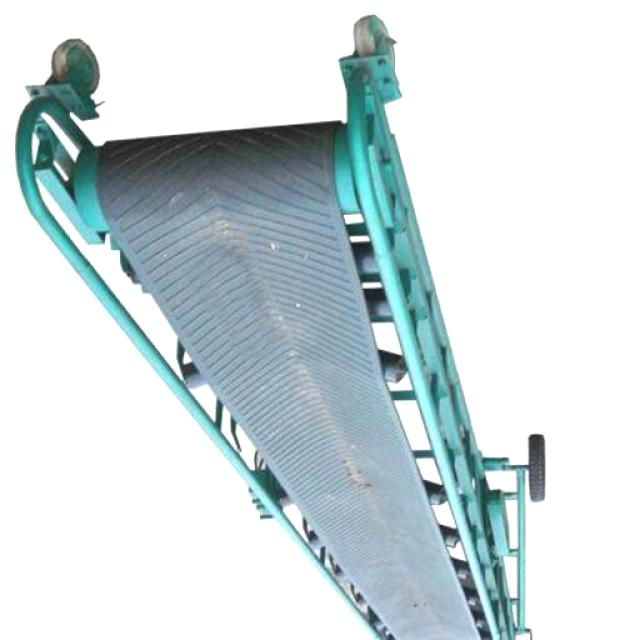conveyor: (98, 122, 482, 640)
